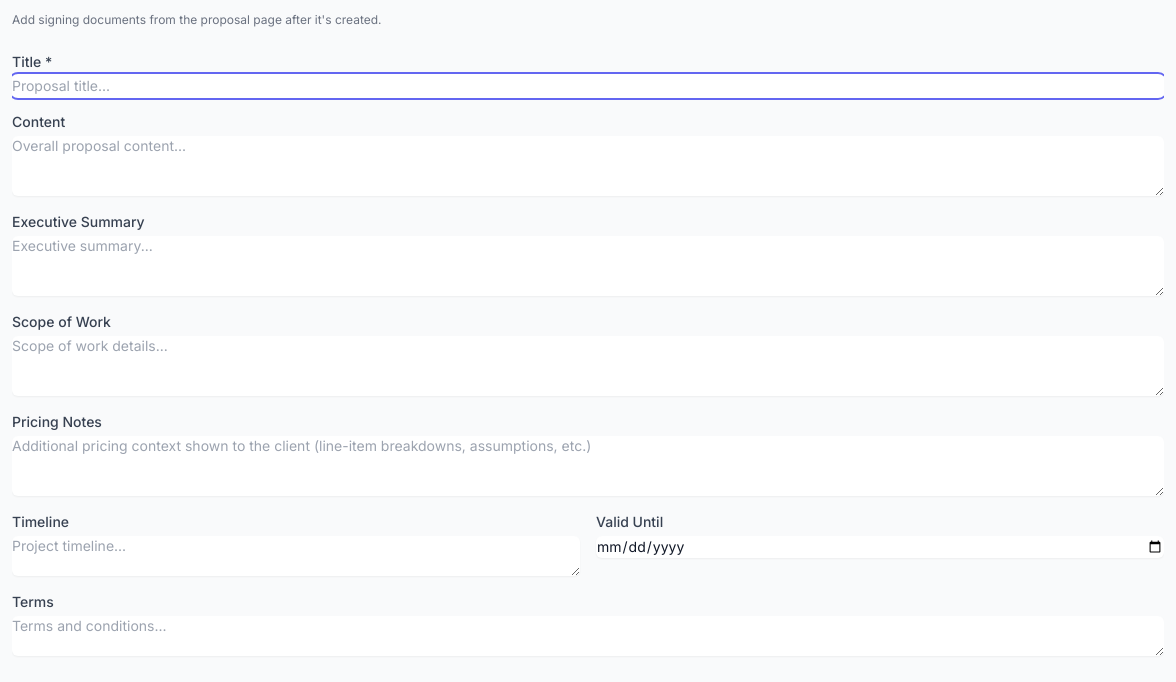
Test case: ProposalForm local drafts › does not show a saved timestamp when browser storage rejects writes
Type "Storage blocked proposal" into the field labelled "Title *" at (588, 86), box [12, 76, 1164, 96]
Wait 600 ms
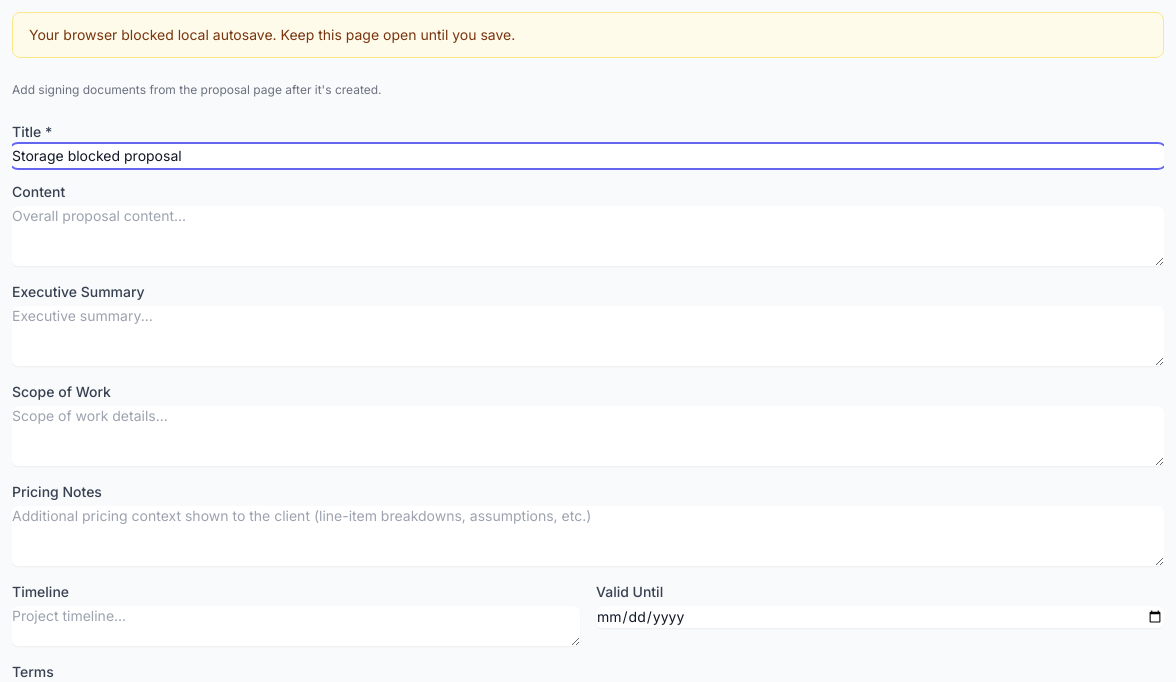
Result: the text "Your browser blocked local autosave. Keep this page open until you save." is shown at [12, 12, 1164, 58]
